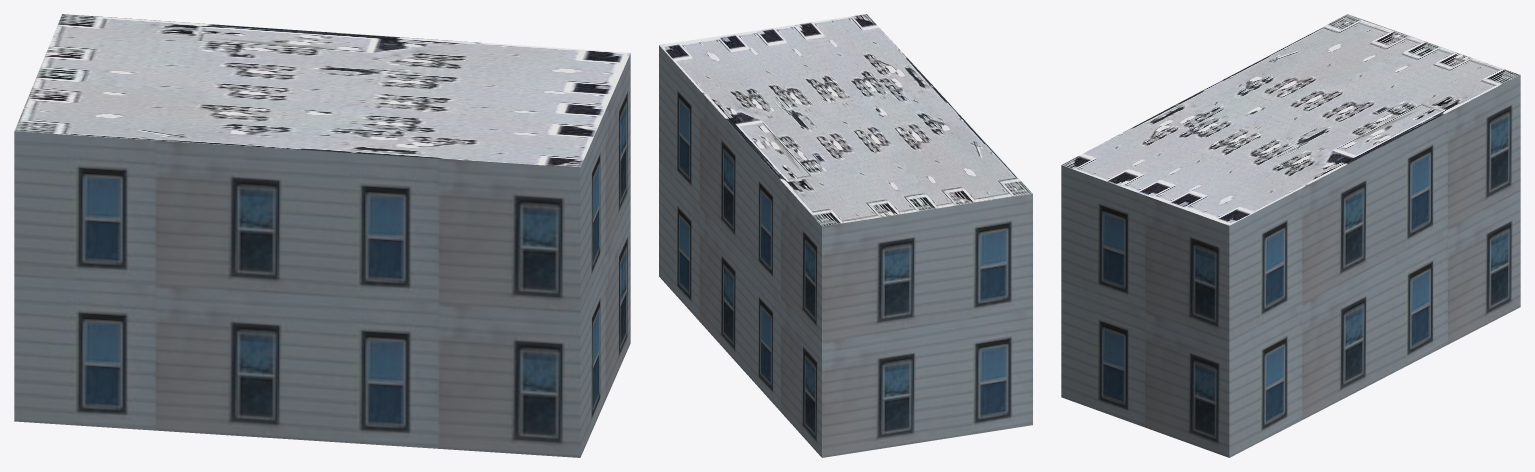
File: ResTex__1513.fbx
3 renders of one model, left to right at view 1: azimuth 30°, elevation 25°; view 2: azimuth 150°, elevation 25°; view 3: azimuth 270°, elevation 25°, orthographic. The views are drawn at different scales.
Parts seen in each view (by area): view 1: CityEngineMaterial_18_m, CityEngineMaterial_m; view 2: CityEngineMaterial_18_m, CityEngineMaterial_m; view 3: CityEngineMaterial_18_m, CityEngineMaterial_m.
Part boxes in pixels (left/top/right/bottom): CityEngineMaterial_18_m: left=14, top=54, right=630, bottom=457; CityEngineMaterial_m: left=14, top=14, right=630, bottom=167; CityEngineMaterial_18_m: left=659, top=45, right=1032, bottom=457; CityEngineMaterial_m: left=659, top=14, right=1032, bottom=226; CityEngineMaterial_18_m: left=1061, top=75, right=1520, bottom=457; CityEngineMaterial_m: left=1061, top=14, right=1519, bottom=225.
Bounding box in the file's own units: 11.74 × 6 × 10.76.
Materials: 2 (2 with a texture image).
